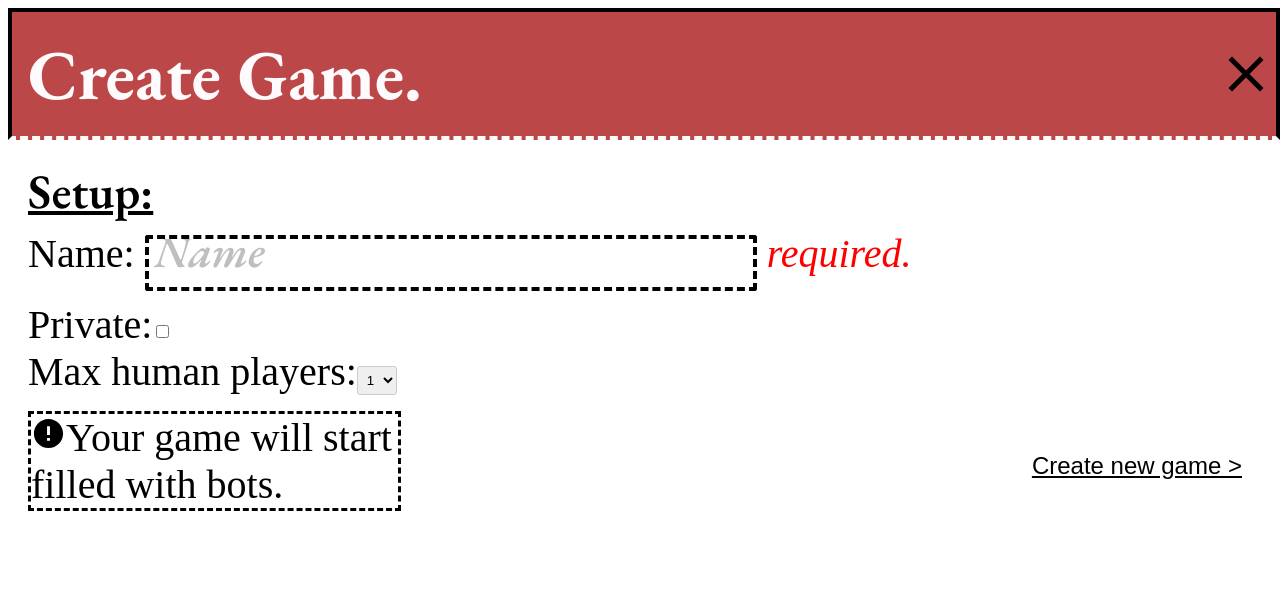
Test case: CreateGame › should render the password input field when the private checkbox is checked
This screenshot has width=1280, height=601.
Click the checkbox: (163, 331) x1=156 y1=324 x2=169 y2=338
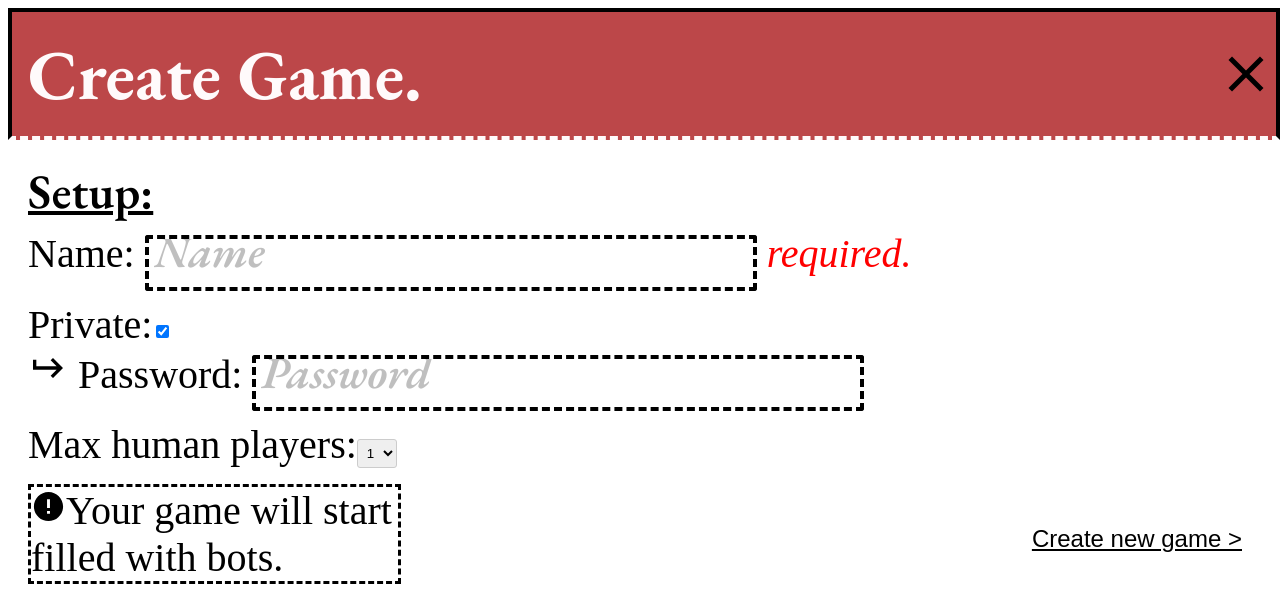
expect the password field with placeholder "Password" is shown: met, box x1=252 y1=355 x2=864 y2=411
